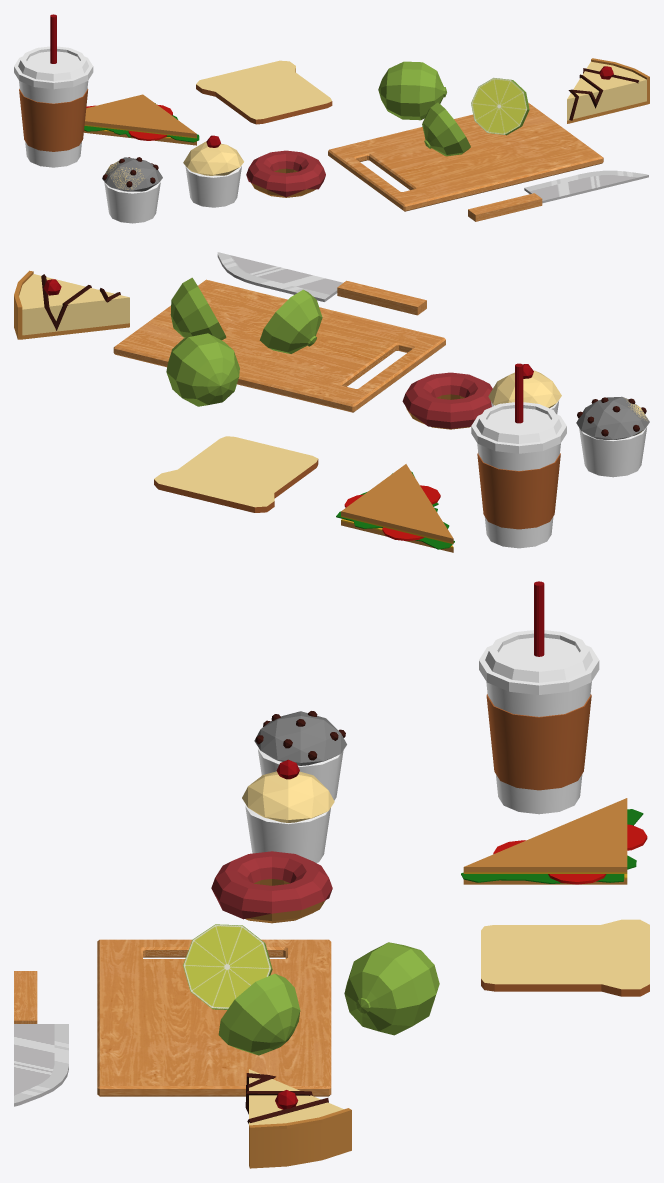
File: comestibles.fbx
3 renders of one model, top to bottom at view 1: azimuth 30°, elevation 25°; view 2: azimuth 150°, elevation 25°; view 3: azimuth 270°, elevation 25°, orthographic. The views are drawn at different scales.
Parts seen in each view (by area): view 1: cutting board, smoothie, bread, cherry pie, sandwich, muffin cherry, muffin chips, knife, Sphere002, donut, Object001, Sphere001; view 2: cutting board, smoothie, bread, cherry pie, sandwich, muffin chips, knife, Sphere002, donut, Sphere001, Object001, muffin cherry; view 3: cutting board, smoothie, bread, sandwich, cherry pie, donut, muffin cherry, Sphere002, Sphere001, knife, muffin chips, Object001.
Part boxes in pixels (bbox=[...]): cutting board: bbox=[328, 103, 603, 211]; smoothie: bbox=[14, 14, 93, 167]; bread: bbox=[196, 60, 332, 124]; cherry pie: bbox=[567, 58, 649, 123]; sandwich: bbox=[84, 94, 199, 145]; muffin cherry: bbox=[183, 135, 243, 207]; muffin chips: bbox=[102, 157, 162, 223]; knife: bbox=[468, 170, 648, 221]; Sphere002: bbox=[378, 61, 446, 120]; donut: bbox=[246, 150, 325, 197]; Object001: bbox=[471, 77, 529, 135]; Sphere001: bbox=[422, 102, 470, 156]; cutting board: bbox=[113, 279, 445, 412]; smoothie: bbox=[471, 363, 566, 548]; bread: bbox=[154, 436, 318, 512]; cherry pie: bbox=[14, 270, 129, 339]; sandwich: bbox=[336, 464, 454, 552]; muffin chips: bbox=[576, 396, 649, 477]; knife: bbox=[217, 252, 426, 315]; Sphere002: bbox=[166, 333, 239, 406]; donut: bbox=[402, 372, 492, 429]; Sphere001: bbox=[259, 289, 322, 353]; Object001: bbox=[170, 277, 226, 340]; muffin cherry: bbox=[488, 364, 561, 414]; cutting board: bbox=[97, 939, 331, 1096]; smoothie: bbox=[479, 581, 599, 814]; bread: bbox=[481, 919, 649, 996]; sandwich: bbox=[461, 798, 647, 884]; cherry pie: bbox=[245, 1069, 351, 1168]; donut: bbox=[211, 851, 332, 923]; muffin cherry: bbox=[242, 759, 334, 862]; Sphere002: bbox=[344, 942, 439, 1035]; Sphere001: bbox=[183, 924, 272, 1009]; knife: bbox=[14, 971, 68, 1106]; muffin chips: bbox=[254, 711, 346, 800]; Object001: bbox=[218, 973, 300, 1055].
Bounding box in the file's own units: 31.61 × 7.92 × 21.4.
